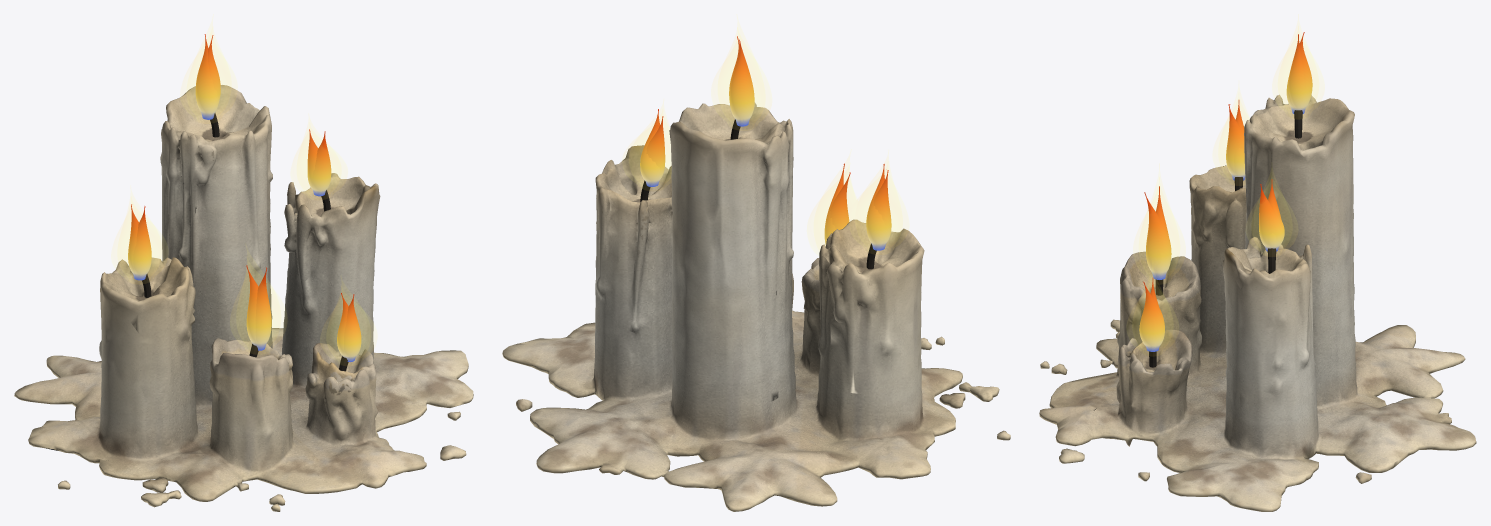
Rendered from SM_Cripta_Velas.glb.
3 renders of one model, left to right at view 1: azimuth 30°, elevation 25°; view 2: azimuth 150°, elevation 25°; view 3: azimuth 270°, elevation 25°, orthographic. The views are drawn at different scales.
Visible parts, largest first — view 1: SM_Cripta_Velas; view 2: SM_Cripta_Velas; view 3: SM_Cripta_Velas.
Boxes of the visible parts, x1,y1,x2,y2 form: SM_Cripta_Velas: (14, 27, 473, 511); SM_Cripta_Velas: (502, 27, 1010, 511); SM_Cripta_Velas: (1039, 26, 1476, 511).
Bounding box in the file's own units: 0.7628 × 0.6777 × 0.6605.
5 materials, 2 textured.
